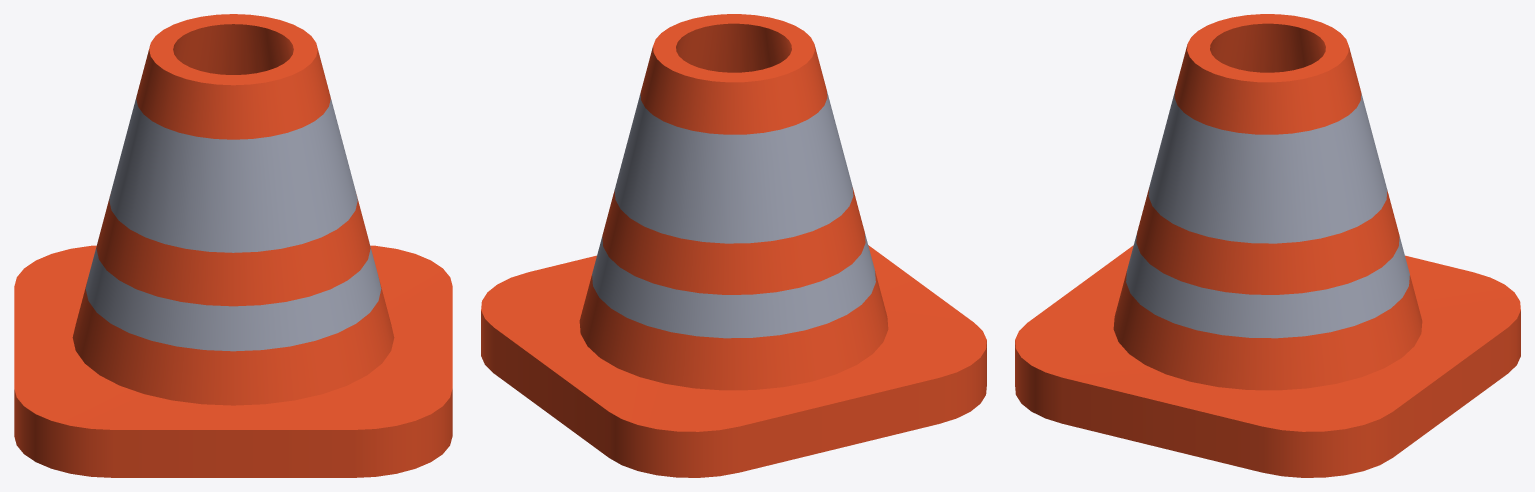
Rendered from sign2.fbx.
The picture shows the model from 3 angles, left to right: view 1: azimuth 30°, elevation 25°; view 2: azimuth 150°, elevation 25°; view 3: azimuth 270°, elevation 25°; orthographic projection. The views are drawn at different scales.
Parts seen in each view (by area): view 1: Cube.125; view 2: Cube.125; view 3: Cube.125.
Boxes of the visible parts, <box> form: Cube.125: <box>14,14,452,477</box>; Cube.125: <box>481,14,986,477</box>; Cube.125: <box>1015,14,1520,477</box>.
Bounding box in the file's own units: 685 × 482 × 685.
1 material, 1 textured.
